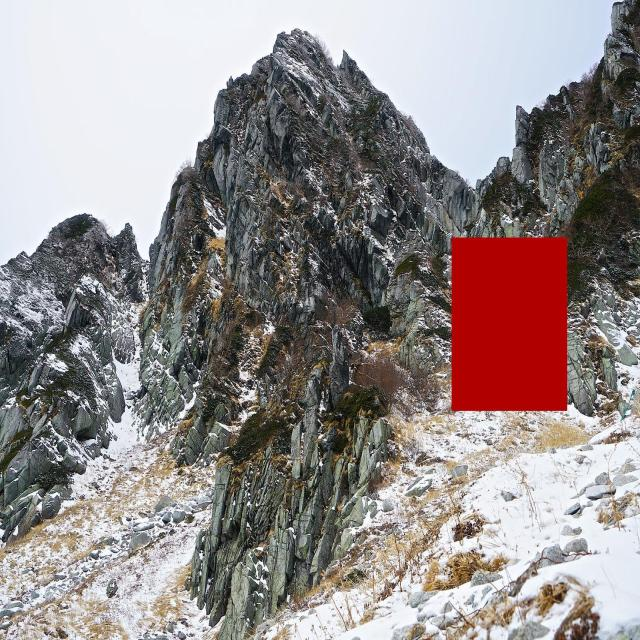RedSquare: (448, 229, 573, 421)
